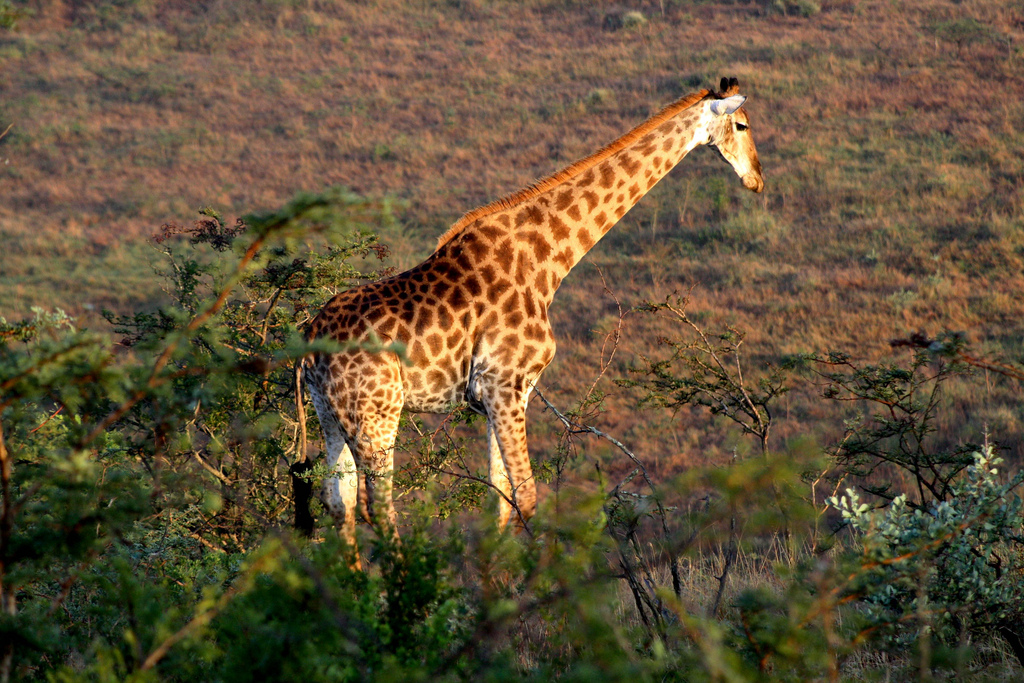giraffe: (250, 75, 795, 568)
